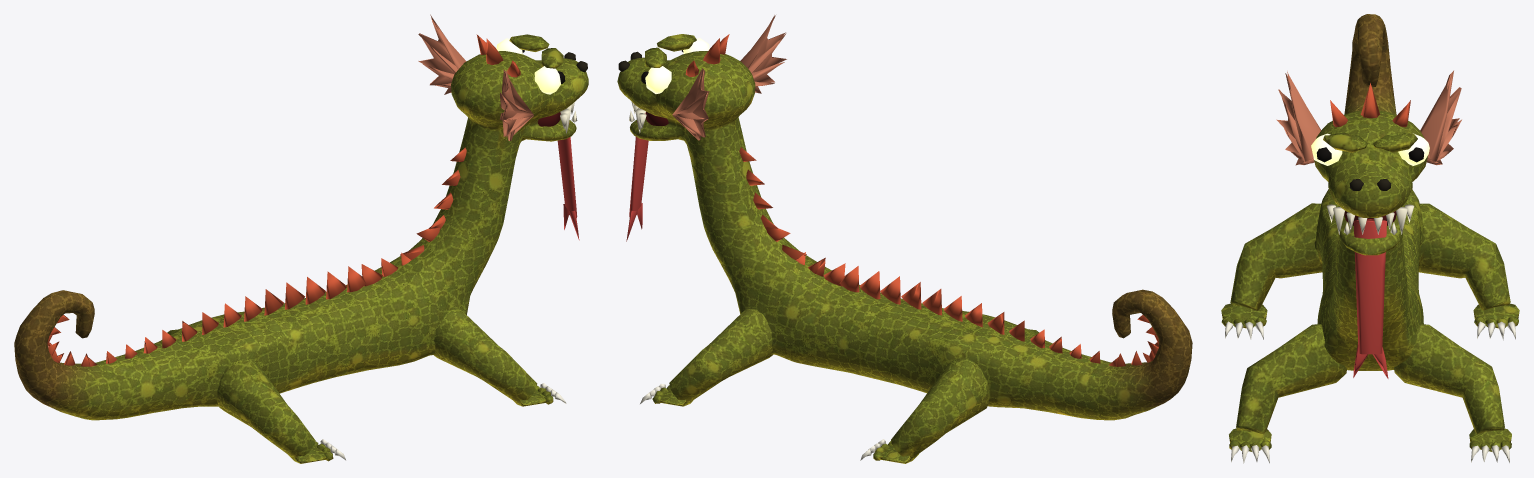
The model's file is tatzelwurm.glb.
3 views of the same model, side by side, from view 1: azimuth 30°, elevation 25°; view 2: azimuth 150°, elevation 25°; view 3: azimuth 270°, elevation 25° (orthographic). The views are drawn at different scales.
Visible parts, largest first — view 1: tatzelwurm.001; view 2: tatzelwurm.001; view 3: tatzelwurm.001.
Part boxes in pixels (box(x1,y1,x2,y2)): tatzelwurm.001: box(14, 14, 588, 463); tatzelwurm.001: box(617, 15, 1192, 463); tatzelwurm.001: box(1221, 14, 1519, 463).
Size of the model in its own units: 2.48 by 1.37 by 0.994.
10 materials, 1 textured.
